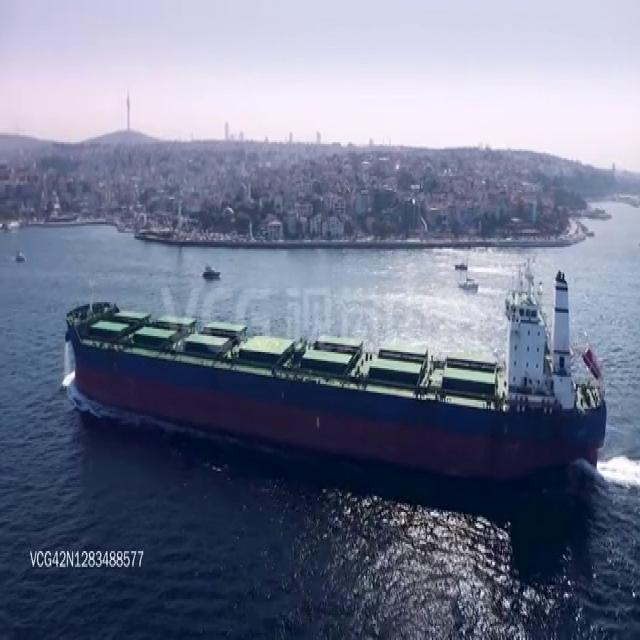cargoship: (56, 262, 606, 493)
houseboat: (200, 258, 224, 282), (457, 274, 480, 292), (454, 257, 470, 272), (15, 246, 28, 263)
